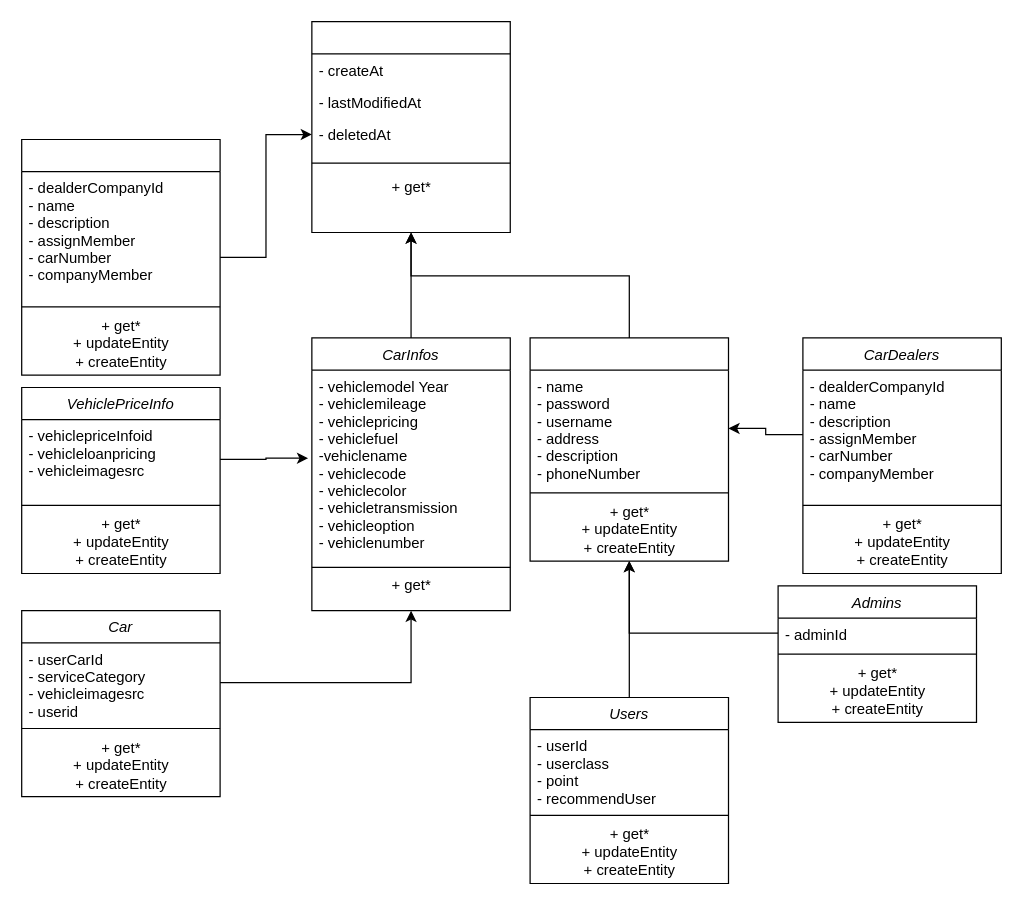
Image size: 1023x905. Some labels were removed from this diagram. The box of each missing label's shape, as (x1, y1, x2, y2) in pixels:
BaseEntity: (311, 20, 510, 232)
DealerCompany: (20, 138, 220, 375)
PersonBaseEntity: (529, 337, 728, 561)
